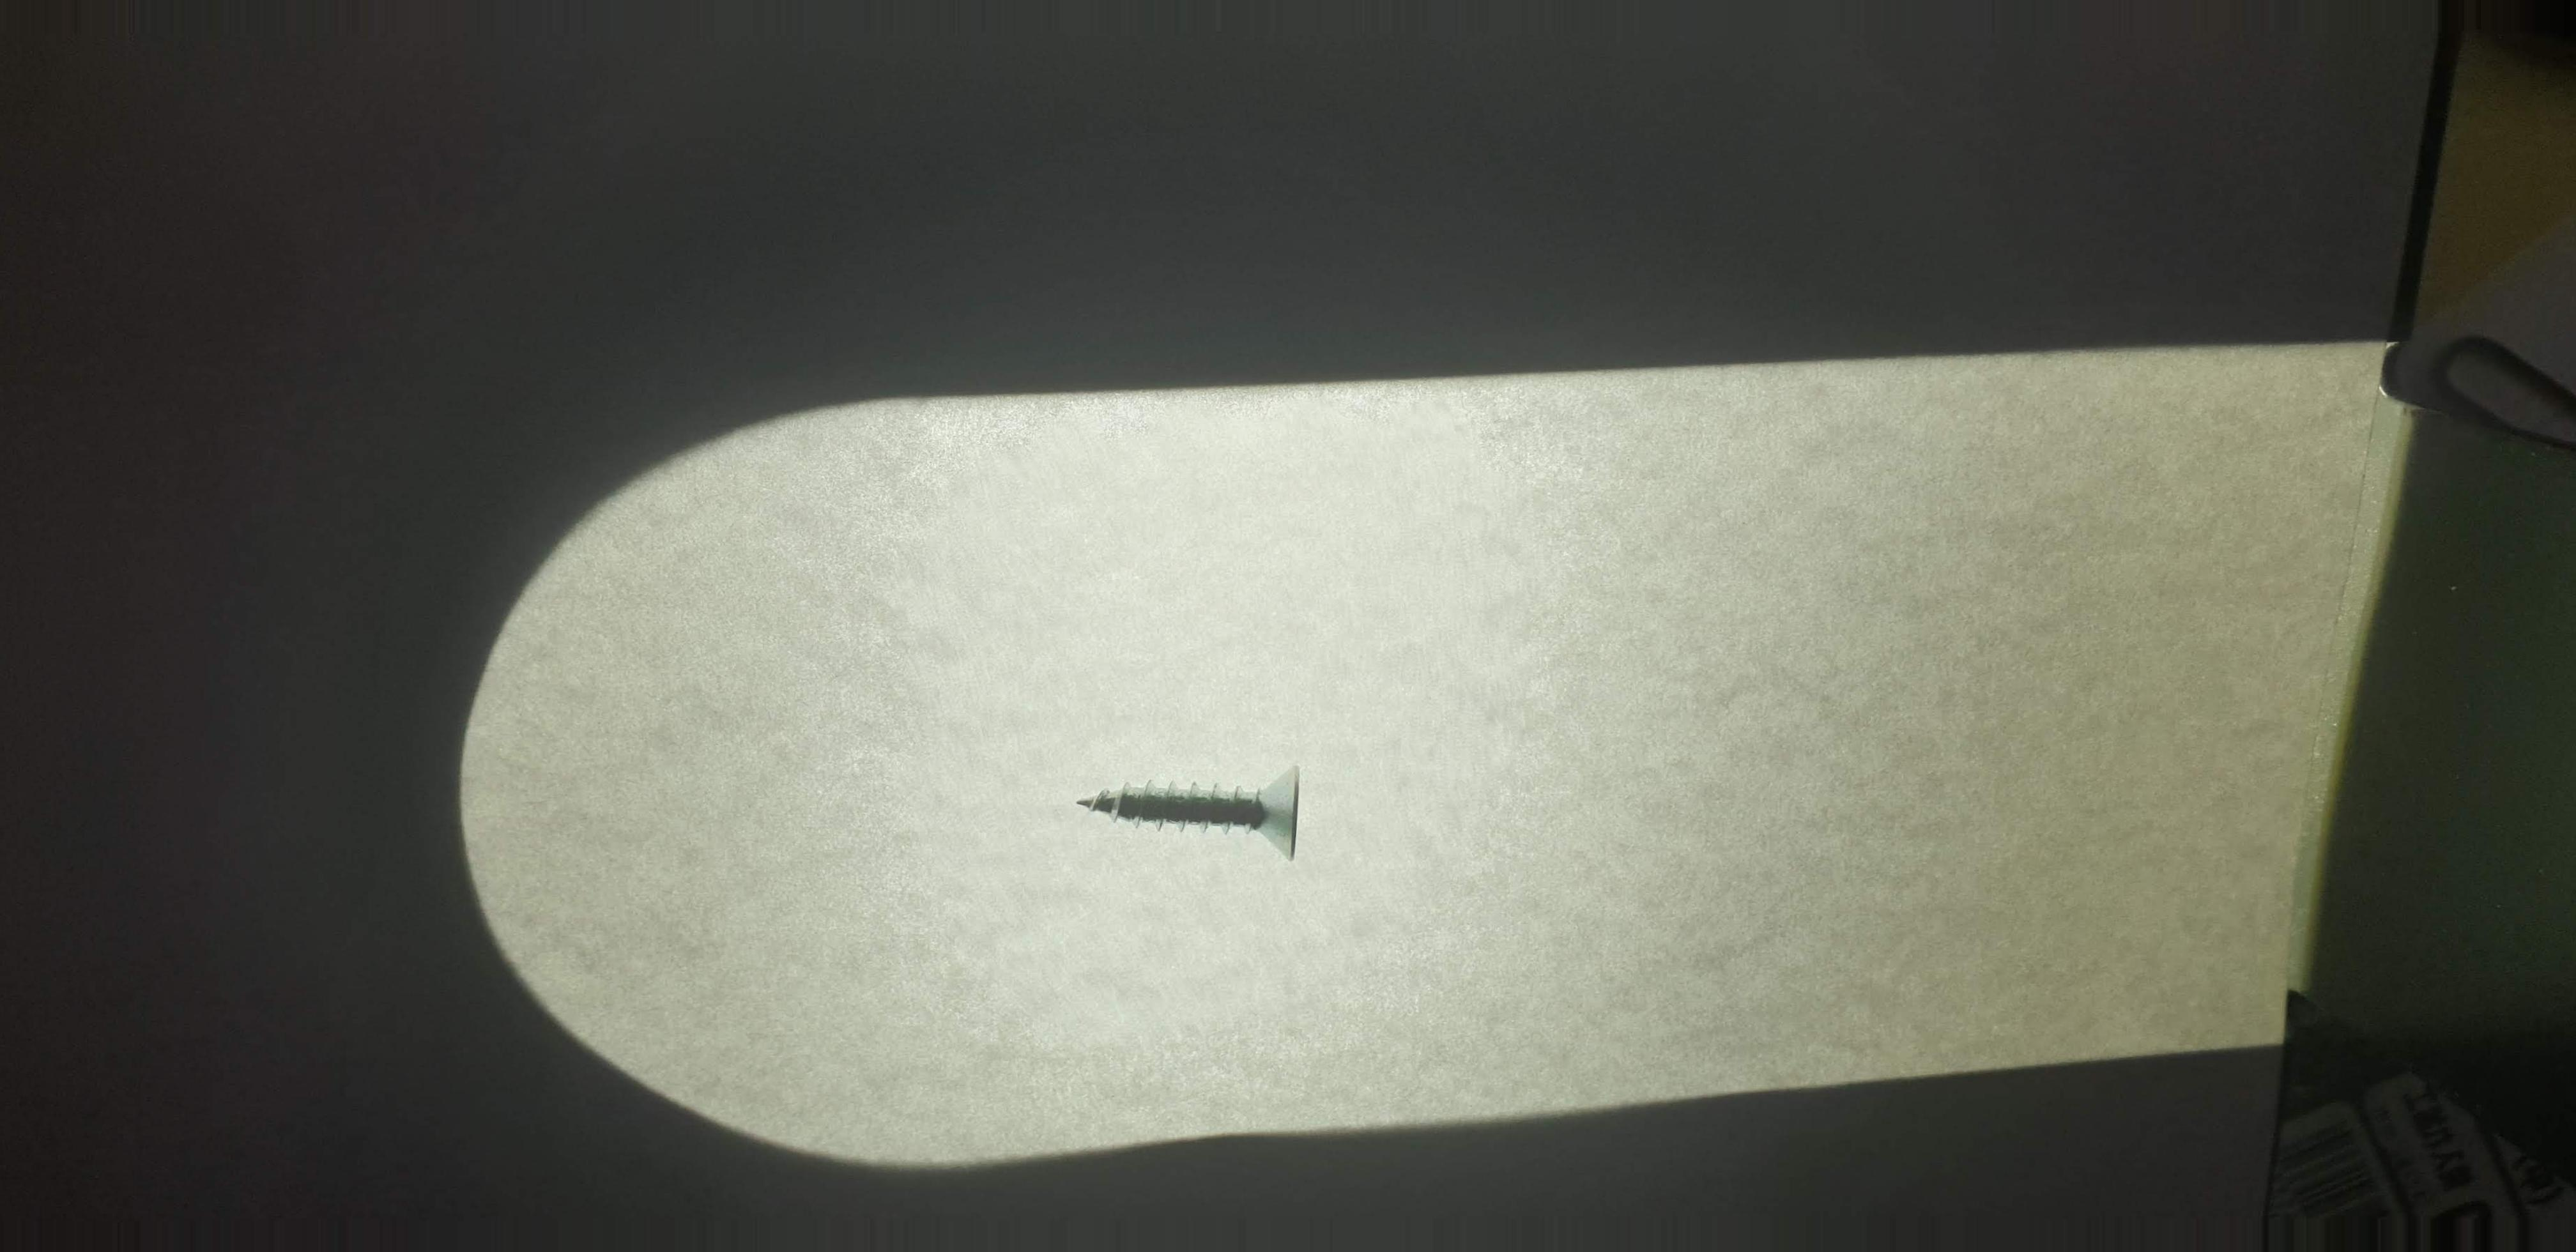S003: (1063, 744, 1337, 887)
